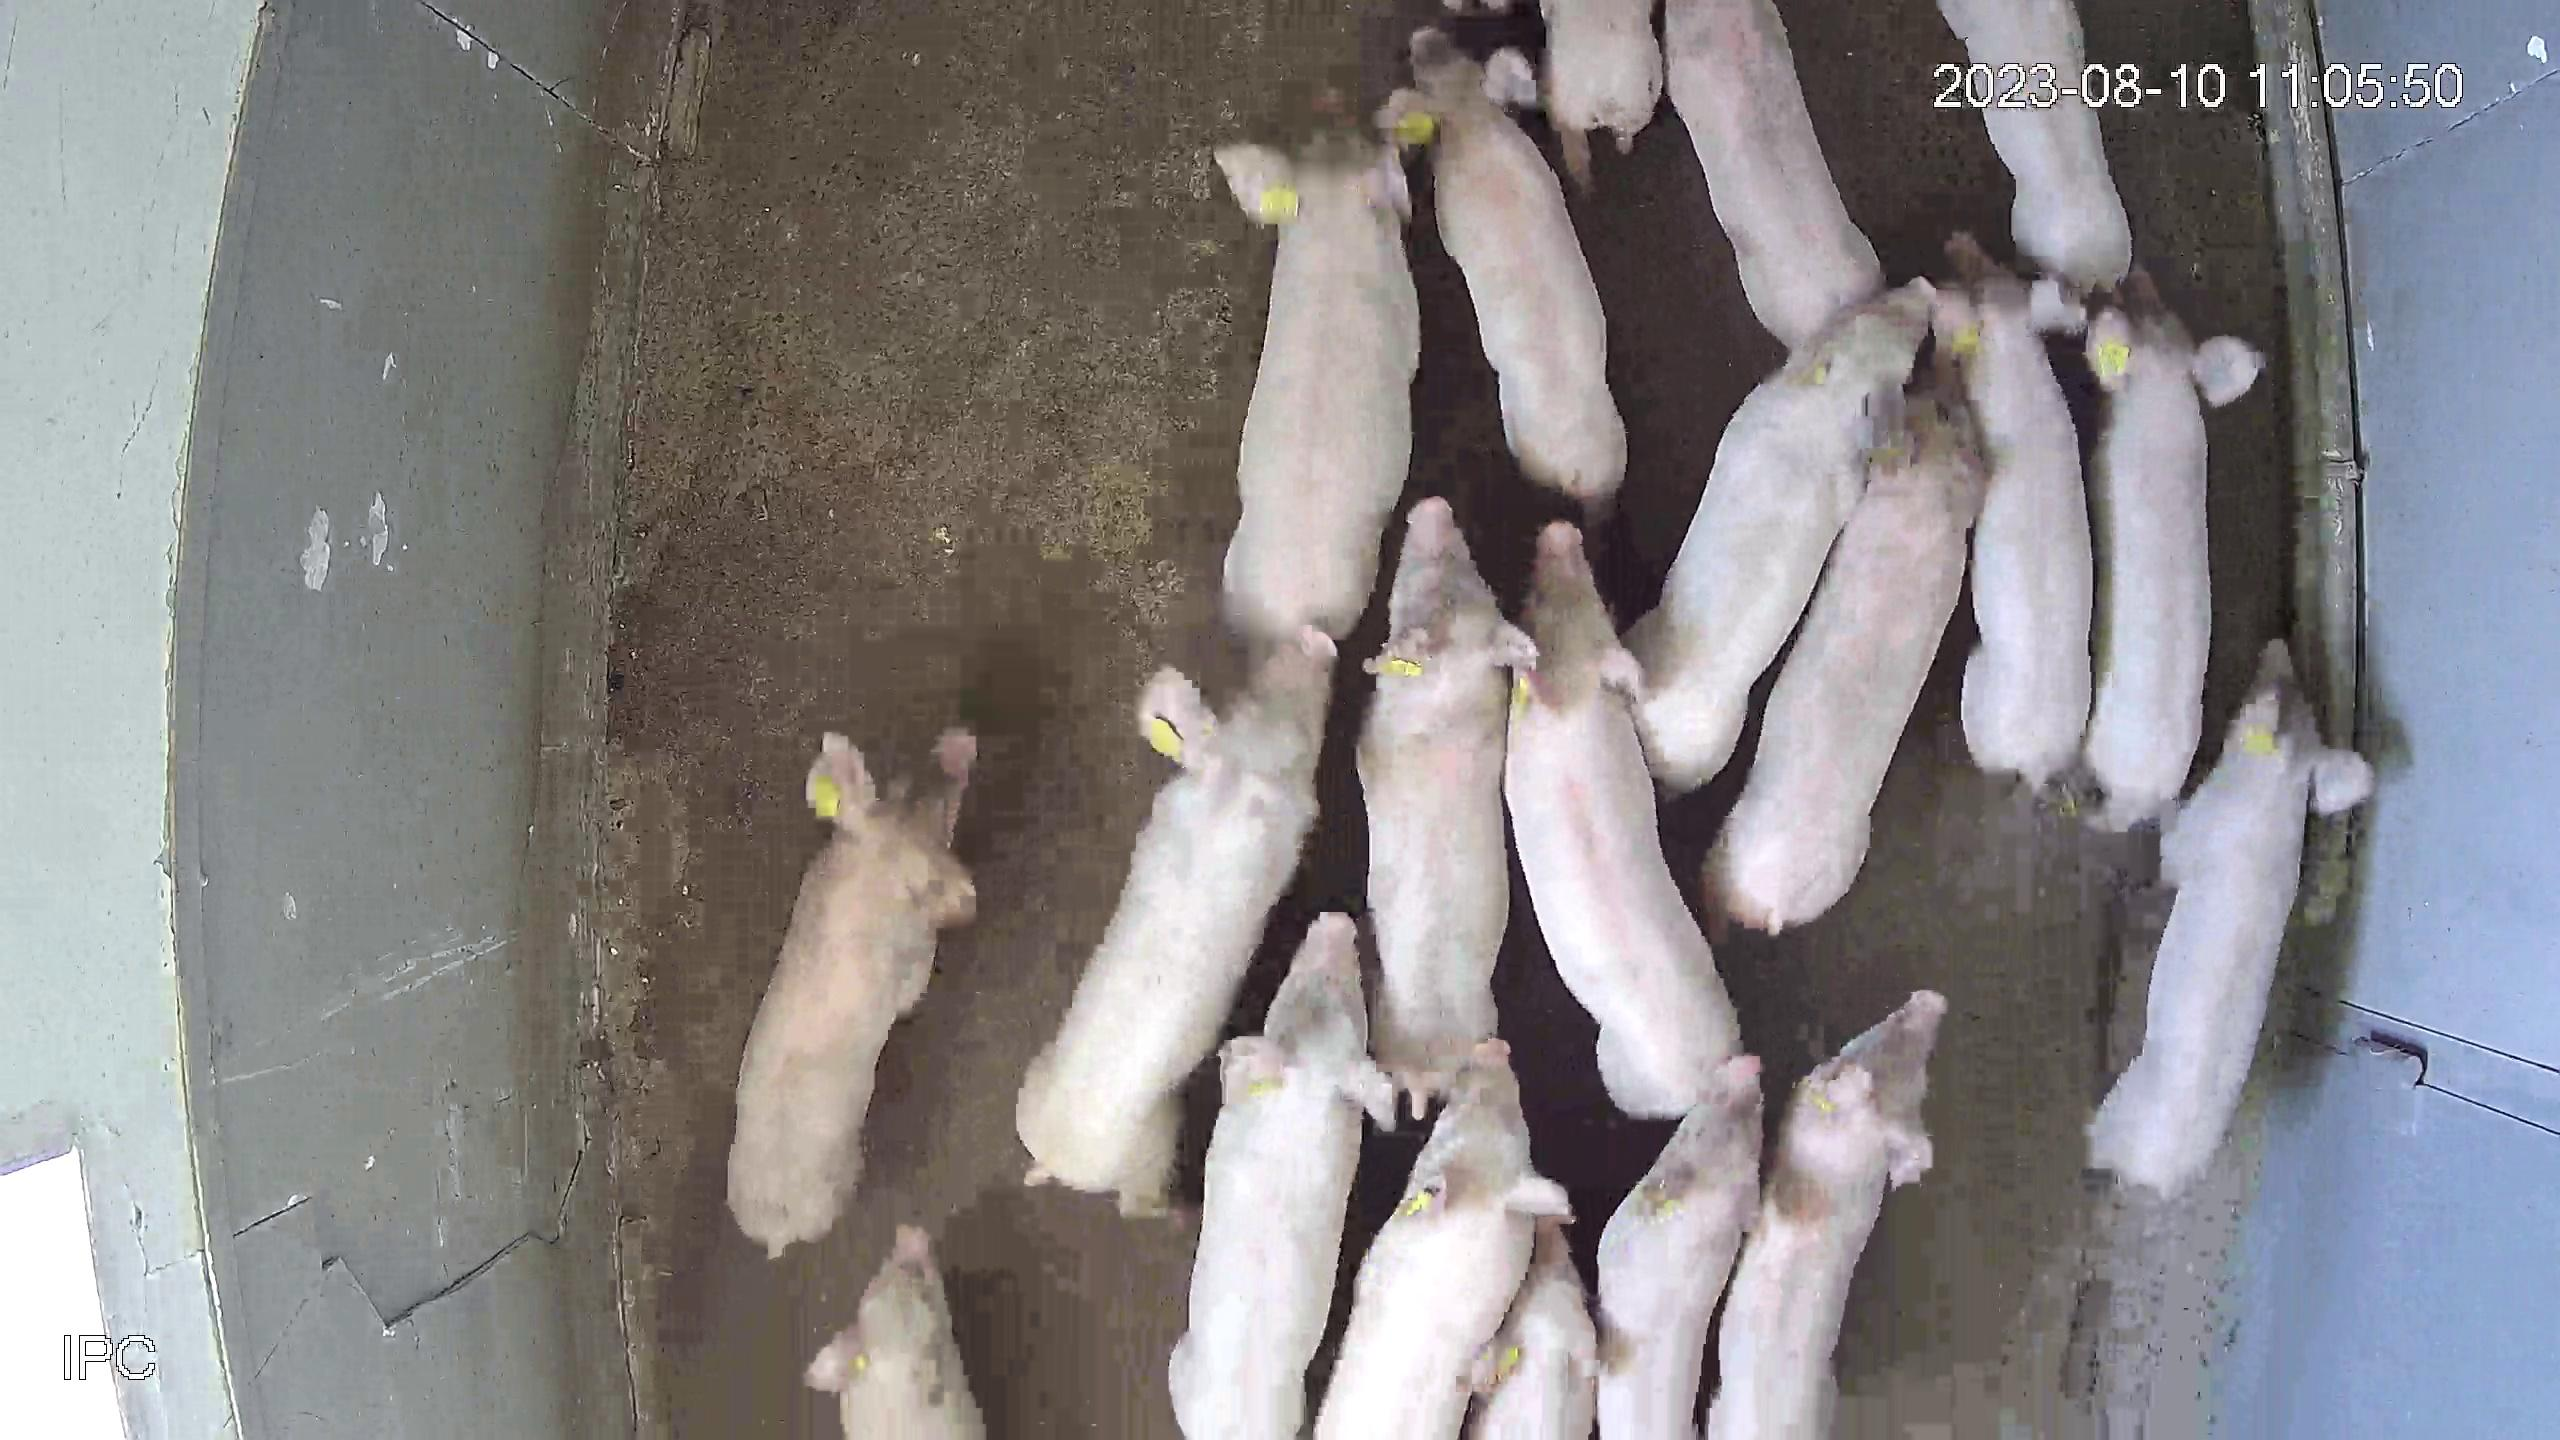Pig: (1015, 622, 1336, 1215), (2092, 636, 2379, 1197), (1626, 276, 1938, 789), (1707, 389, 1987, 932), (1507, 519, 1741, 1118), (726, 728, 976, 1257), (1169, 913, 1396, 1440), (1357, 494, 1538, 1118), (1213, 128, 1421, 649), (1711, 992, 1948, 1440), (1412, 25, 1628, 503), (1315, 1039, 1570, 1440), (2089, 267, 2268, 828), (1938, 230, 2098, 788), (1667, 0, 1887, 346), (1598, 1055, 1765, 1440), (1941, 0, 2135, 288), (804, 1225, 985, 1440), (1466, 1217, 1598, 1440), (1542, 0, 1665, 188)
